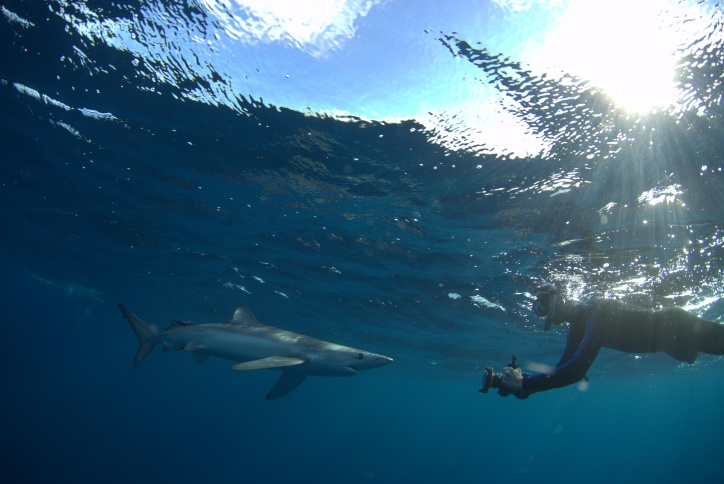Azul: (99, 274, 413, 420)
